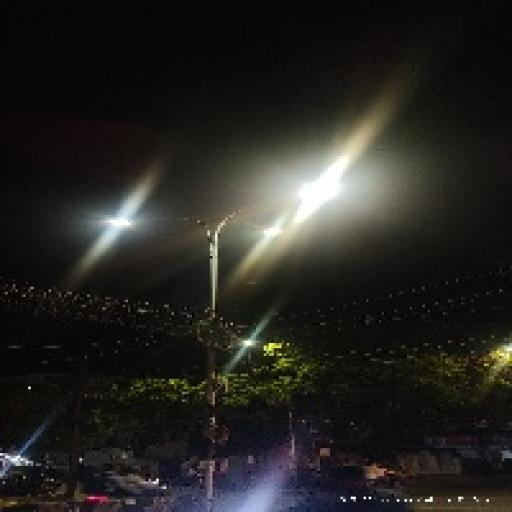Working: (98, 210, 142, 235)
